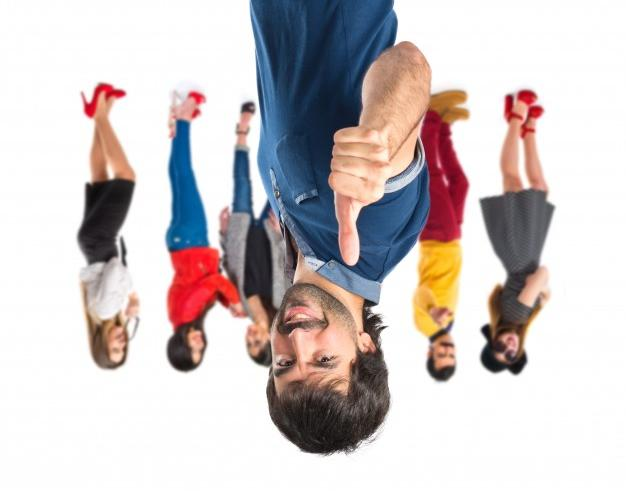thumbsdown: (327, 128, 391, 266)
